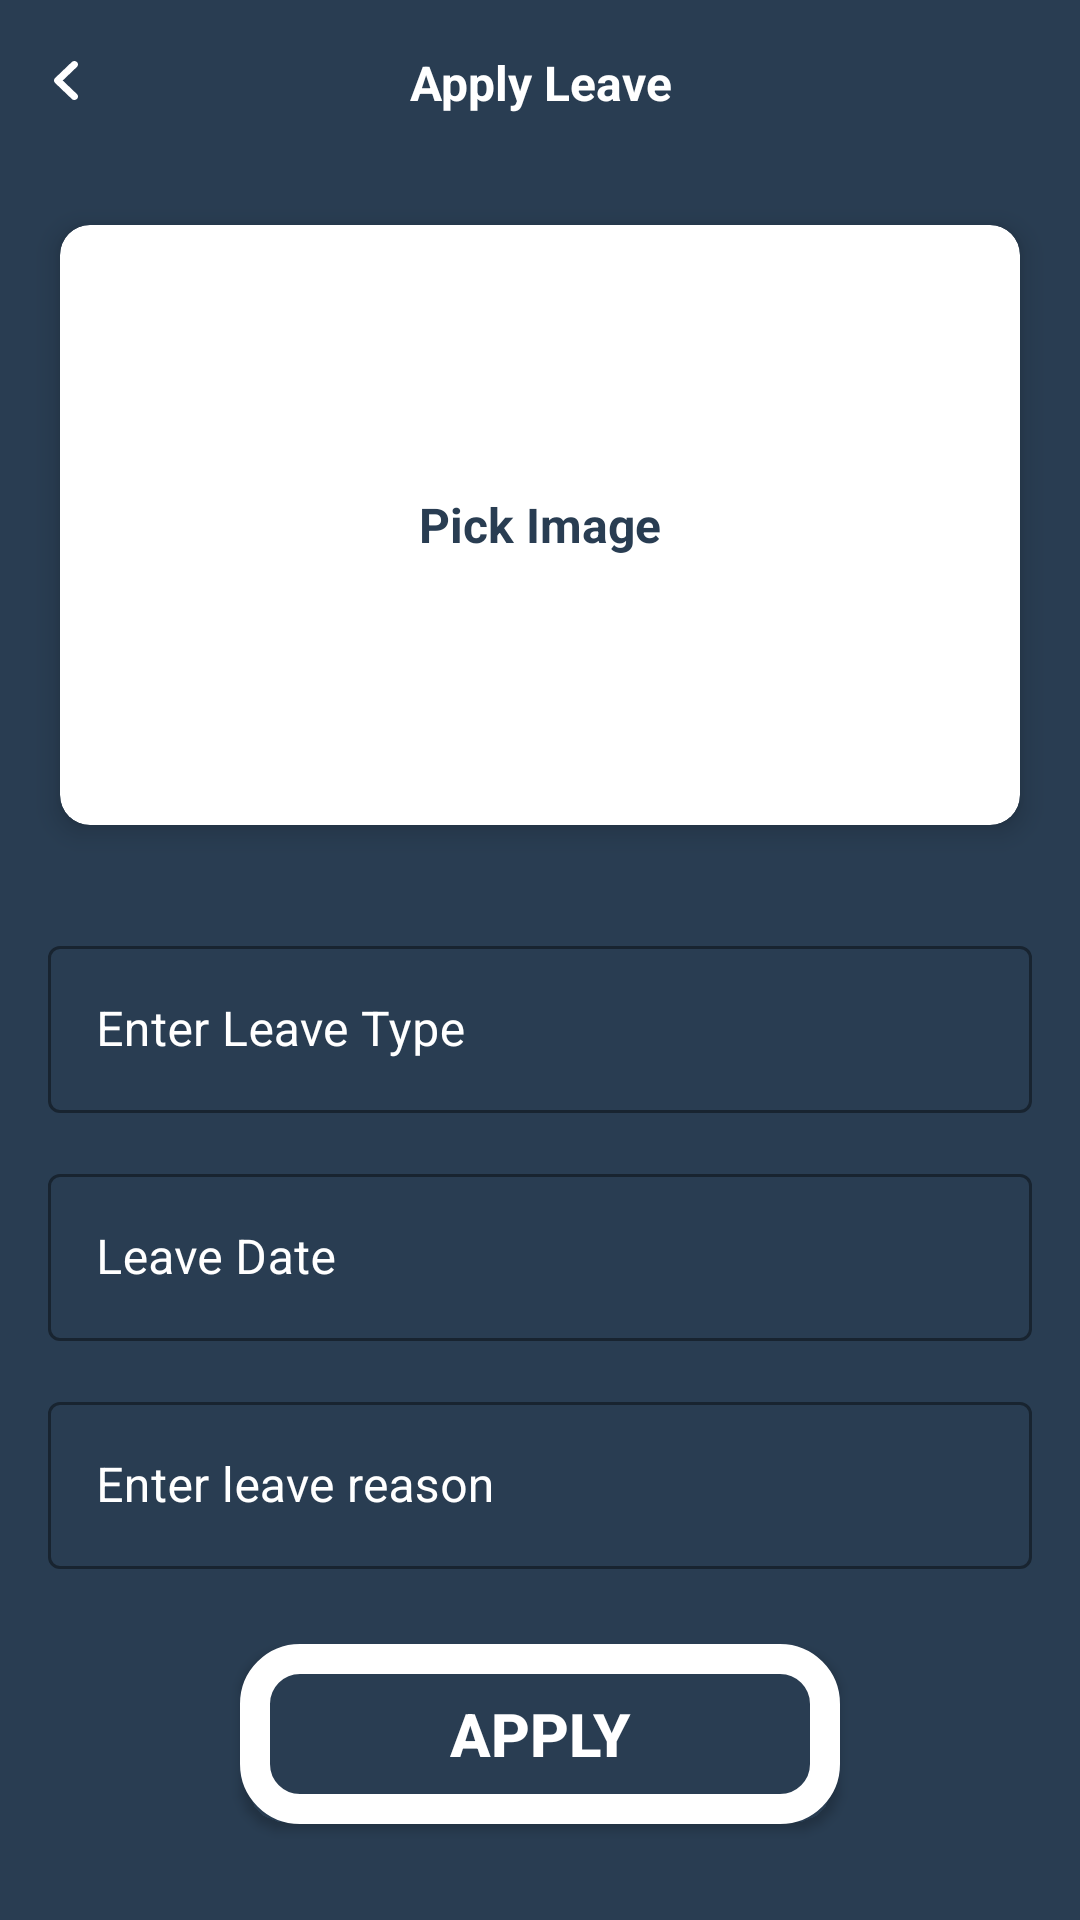

Named icons in this screenshot (1080 x 1920) and their bounding boxes, (x1, y1, x2, y2):
back: (54, 61, 78, 100)
